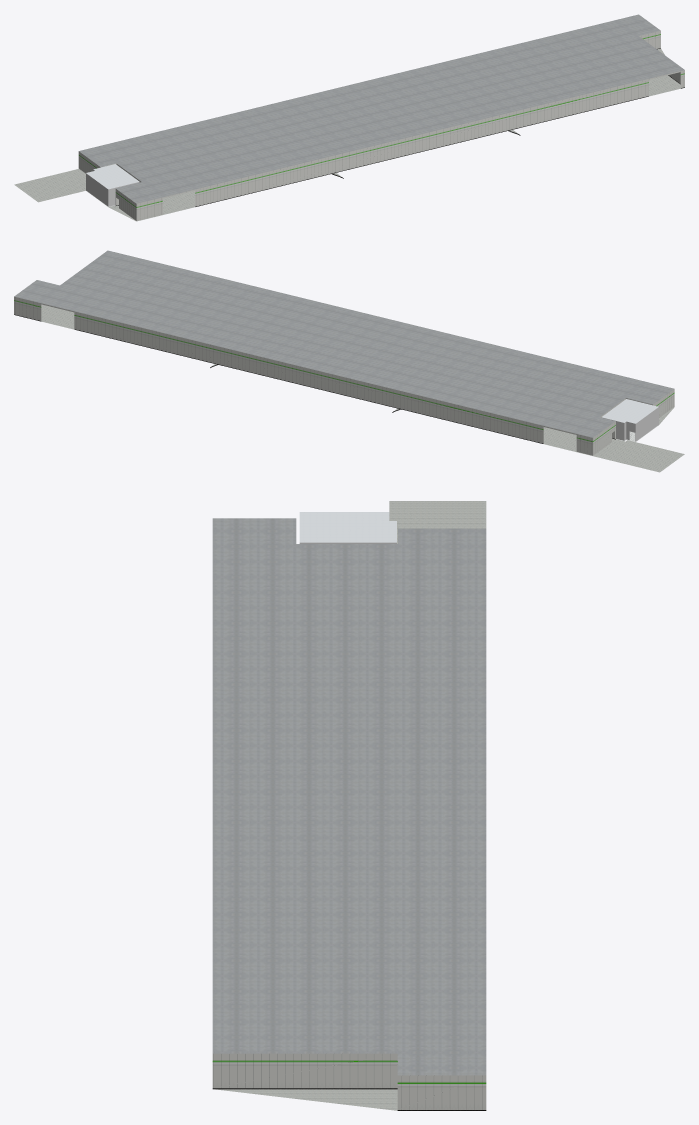
The model's file is VR_zhanting_qiang.fbx.
The picture shows the model from 3 angles, top to bottom: view 1: azimuth 30°, elevation 25°; view 2: azimuth 150°, elevation 25°; view 3: azimuth 270°, elevation 25°; orthographic projection. The views are drawn at different scales.
Visible parts, largest first — view 1: polySurface687; view 2: polySurface687; view 3: polySurface687.
Boxes of the visible parts, bbox=[...] form: polySurface687: bbox=[14, 14, 684, 221]; polySurface687: bbox=[14, 250, 684, 472]; polySurface687: bbox=[212, 501, 486, 1110].
Size of the model in its own units: 14912 by 1217 by 2829.
